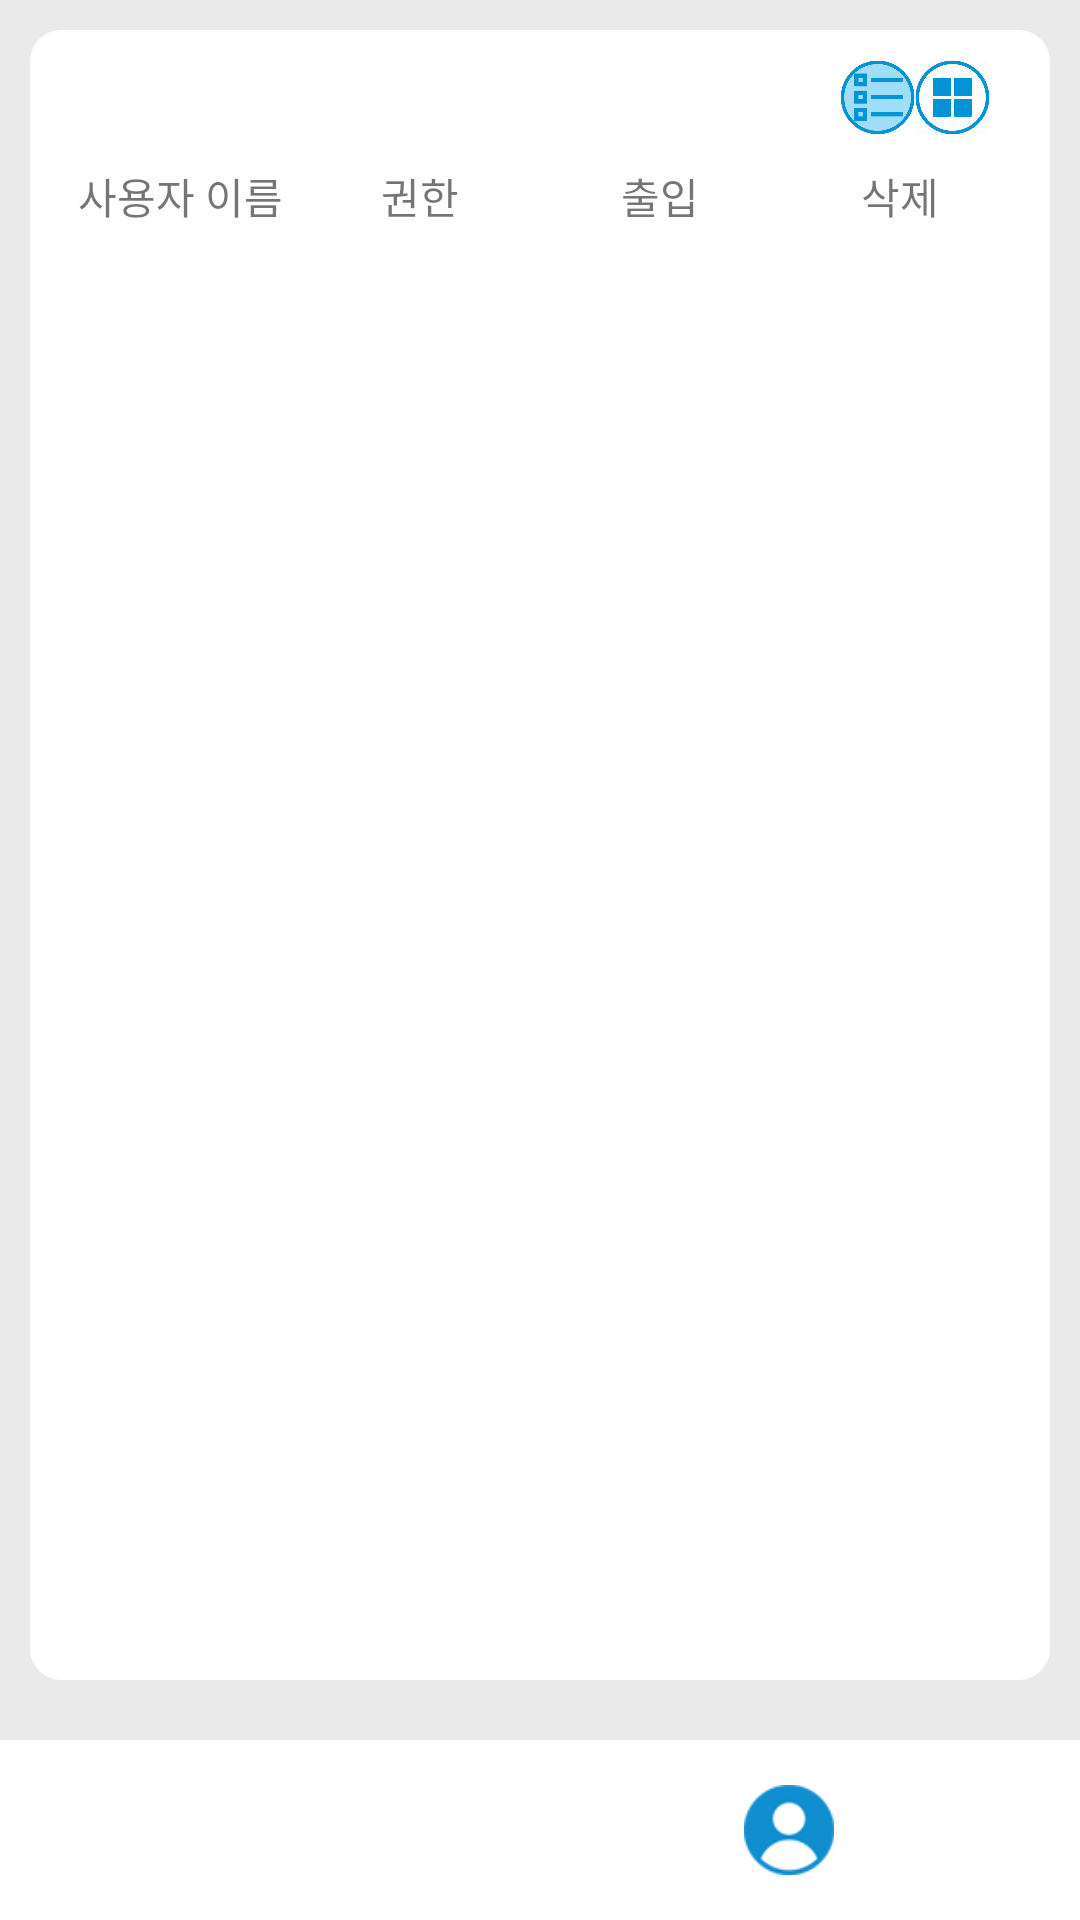

Icon bounding boxes for this 1080×1920 phone screenshot, format (x1, y1, x2, y2):
radio check grid: (933, 78, 972, 117)
radio check list: (841, 60, 915, 134)
